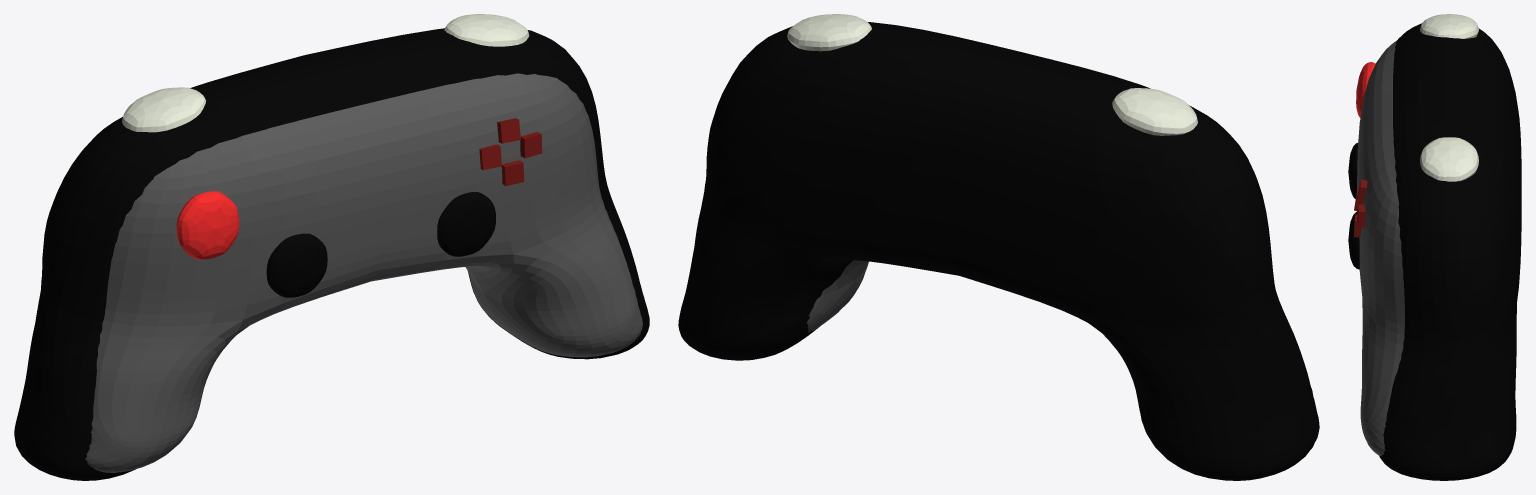
Rendered from ch1-gamepad.glb.
The picture shows the model from 3 angles, left to right: view 1: azimuth 30°, elevation 25°; view 2: azimuth 150°, elevation 25°; view 3: azimuth 270°, elevation 25°; orthographic projection. The views are drawn at different scales.
Parts seen in each view (by area): view 1: Cube.009, Cube, Cube.007, Cube.008, Cube.002; view 2: Cube, Cube.007, Cube.009; view 3: Cube, Cube.009, Cube.007, Cube.002, Cube.008.
Boxes of the visible parts, box(x1,y1,x2,y2) form: Cube.009: box(85, 73, 642, 472); Cube: box(14, 28, 649, 480); Cube.007: box(122, 14, 529, 132); Cube.008: box(176, 191, 239, 259); Cube.002: box(479, 118, 542, 186); Cube: box(678, 22, 1319, 480); Cube.007: box(787, 14, 1197, 135); Cube.009: box(806, 260, 868, 332); Cube: box(1348, 23, 1521, 480); Cube.009: box(1357, 40, 1404, 455); Cube.007: box(1420, 14, 1478, 181); Cube.002: box(1354, 179, 1367, 237); Cube.008: box(1356, 62, 1375, 117).
Bounding box in the file's own units: 3.06 × 1.65 × 0.9104.
